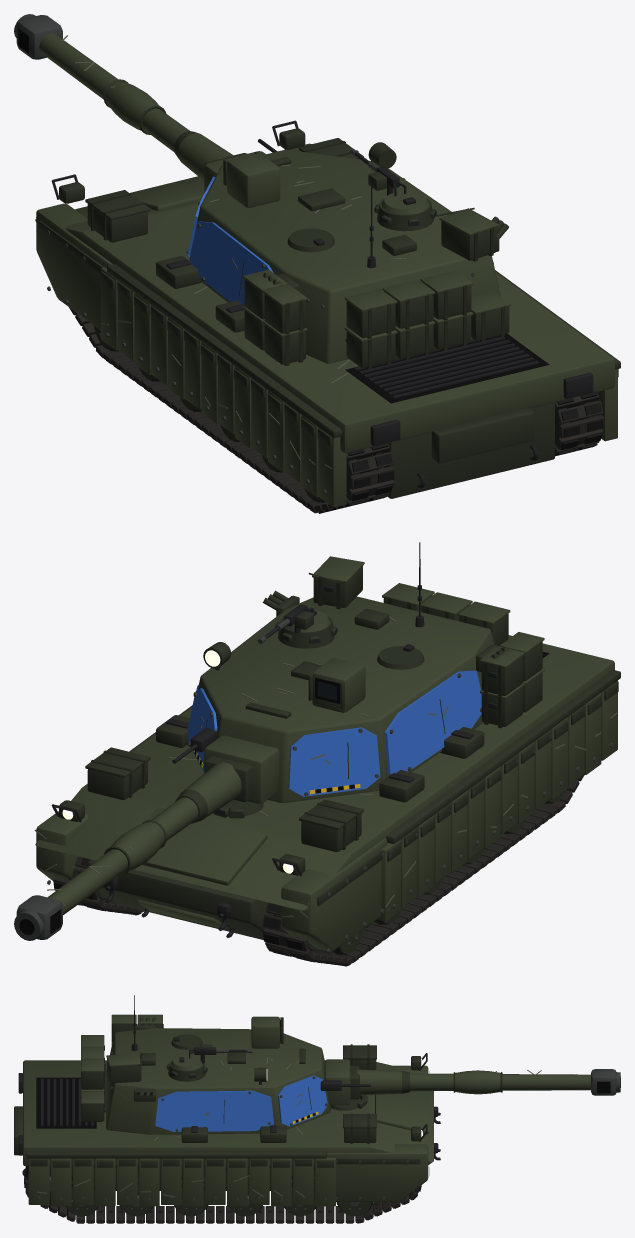
Rendered from heavy_tank.glb.
3 renders of one model, top to bottom at view 1: azimuth 30°, elevation 25°; view 2: azimuth 150°, elevation 25°; view 3: azimuth 270°, elevation 25°, orthographic. The views are drawn at different scales.
Visible parts, largest first — view 1: Hull, Turret; view 2: Hull, Turret; view 3: Hull, Turret.
Boxes of the visible parts, x1,y1,x2,y2 form: Hull: (35,120,620,513); Turret: (14,14,510,369); Hull: (34,635,620,966); Turret: (14,542,544,940); Hull: (14,1044,440,1223); Turret: (81,995,620,1134).
Bounding box in the file's own units: 1.03 × 0.9327 × 2.84.
